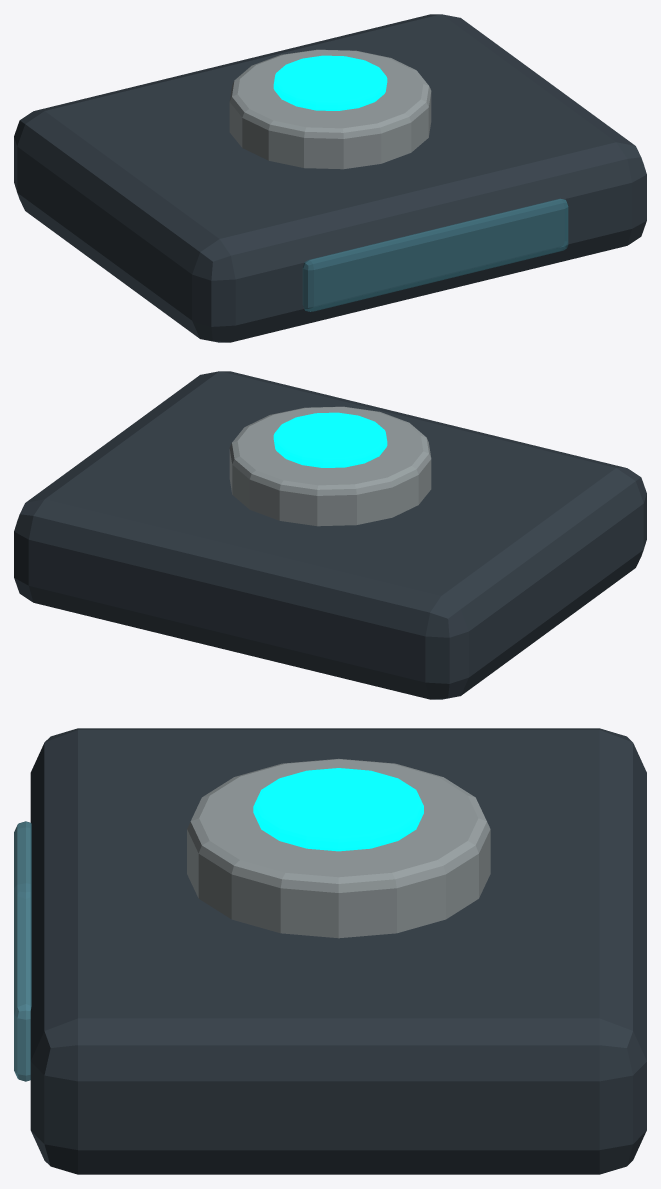
Rendered from Archive_DisplayStand.glb.
3 renders of one model, top to bottom at view 1: azimuth 30°, elevation 25°; view 2: azimuth 150°, elevation 25°; view 3: azimuth 270°, elevation 25°, orthographic. The views are drawn at different scales.
Visible parts, largest first — view 1: Archive_DisplayStand, Archive_DisplayStand_Mount, Archive_DisplayStand_Nameplate, Archive_DisplayStand_UpLight; view 2: Archive_DisplayStand, Archive_DisplayStand_Mount, Archive_DisplayStand_UpLight; view 3: Archive_DisplayStand, Archive_DisplayStand_Mount, Archive_DisplayStand_UpLight, Archive_DisplayStand_Nameplate.
Part boxes in pixels (left/top/right/bottom): Archive_DisplayStand: left=14, top=14, right=646, bottom=342; Archive_DisplayStand_Mount: left=229, top=49, right=431, bottom=169; Archive_DisplayStand_Nameplate: left=302, top=198, right=568, bottom=311; Archive_DisplayStand_UpLight: left=273, top=55, right=387, bottom=110; Archive_DisplayStand: left=14, top=371, right=646, bottom=699; Archive_DisplayStand_Mount: left=229, top=406, right=431, bottom=526; Archive_DisplayStand_UpLight: left=273, top=412, right=387, bottom=467; Archive_DisplayStand: left=30, top=728, right=646, bottom=1174; Archive_DisplayStand_Mount: left=187, top=758, right=490, bottom=938; Archive_DisplayStand_UpLight: left=253, top=768, right=423, bottom=851; Archive_DisplayStand_Nameplate: left=14, top=821, right=31, bottom=1081.
Bounding box in the file's own units: 1.64 × 0.5275 × 1.34.
